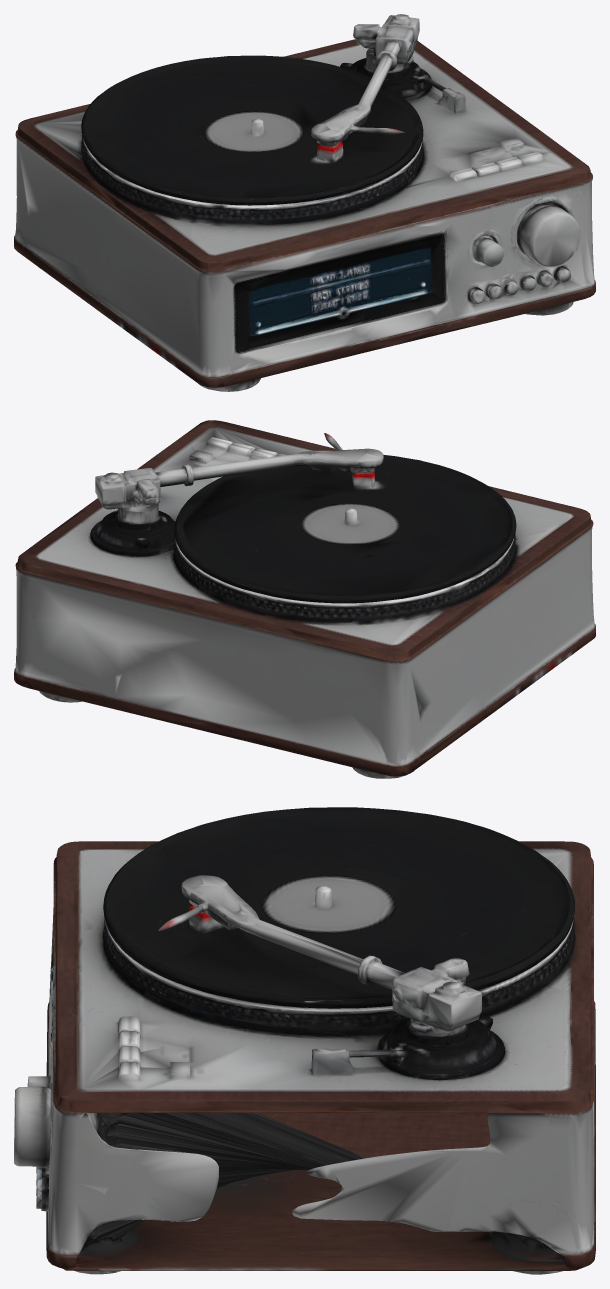
File: vinyl.glb
3 views of the same model, one above another, from view 1: azimuth 30°, elevation 25°; view 2: azimuth 150°, elevation 25°; view 3: azimuth 270°, elevation 25° (orthographic). The views are drawn at different scales.
Parts seen in each view (by area): view 1: node_0; view 2: node_0; view 3: node_0.
Part boxes in pixels (x1,y1,x2,y2): node_0: (14, 14, 595, 391); node_0: (14, 420, 595, 778); node_0: (14, 807, 595, 1274).
Bounding box in the file's own units: 0.8583 × 0.4016 × 0.8012.
Materials: 1 (1 with a texture image).
